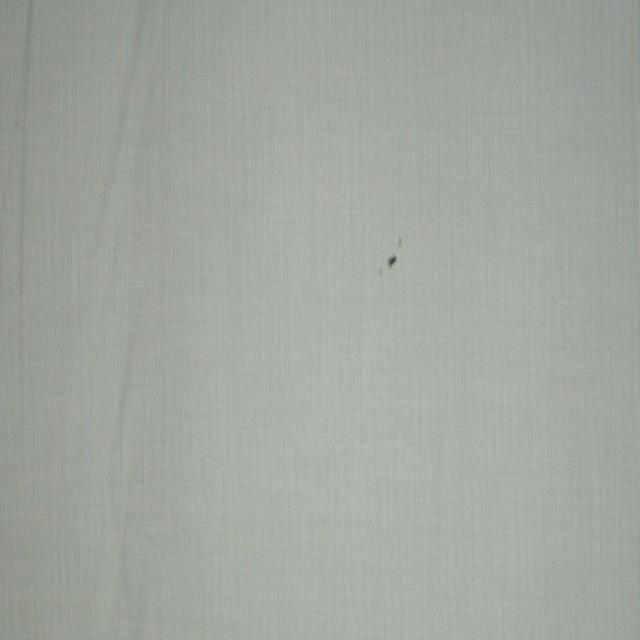dirty: (377, 235, 404, 278)
